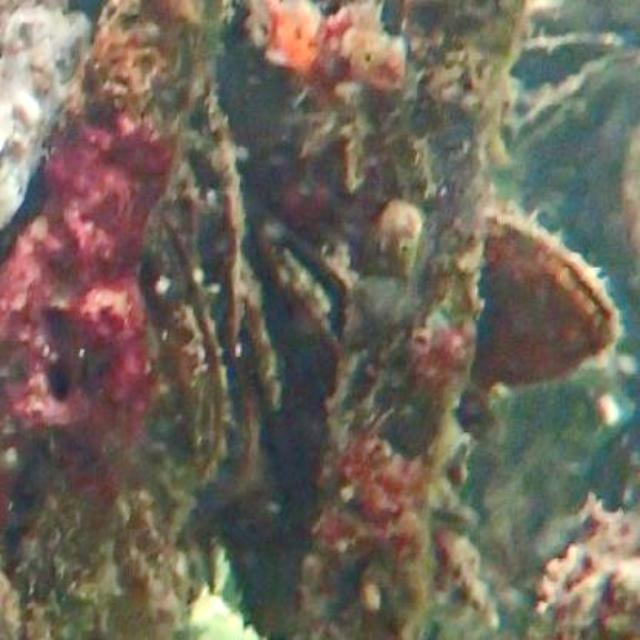Oyster-Open: (139, 203, 233, 556), (475, 218, 617, 392), (250, 207, 356, 403)
